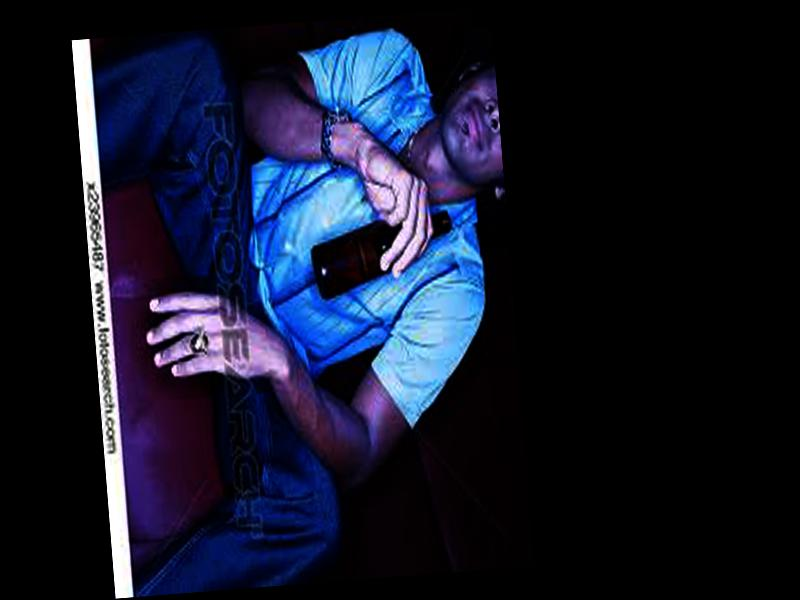Beer: (309, 209, 457, 302)
